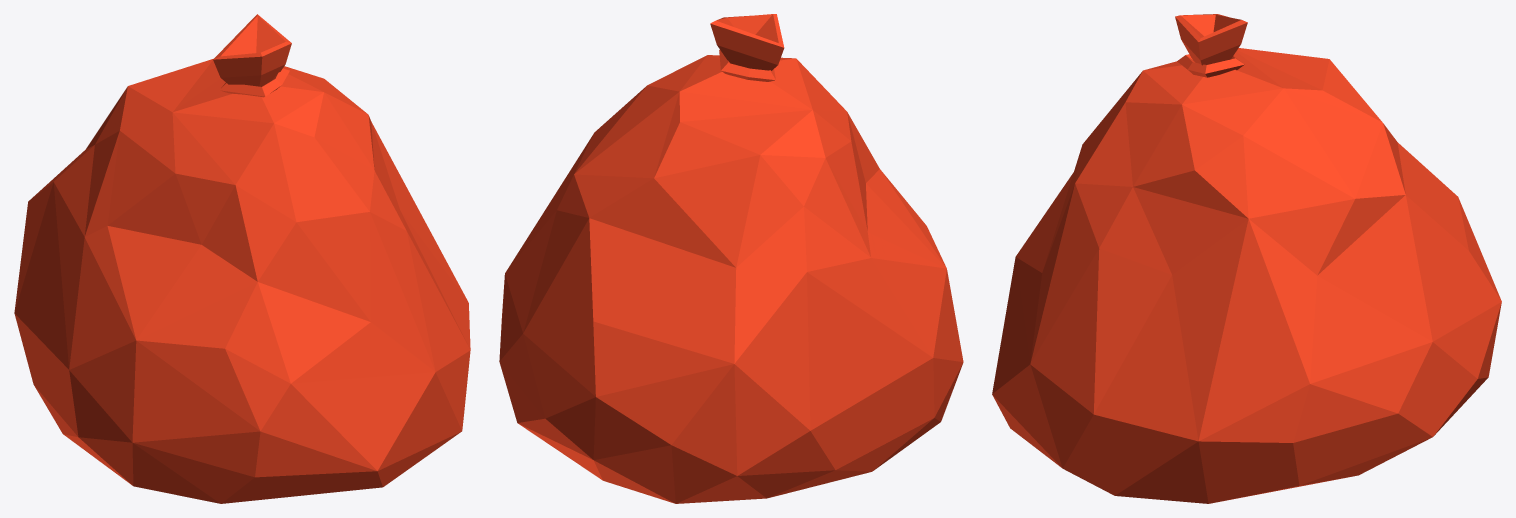
Rendered from SM_Trash_City.fbx.
3 views of the same model, side by side, from view 1: azimuth 30°, elevation 25°; view 2: azimuth 150°, elevation 25°; view 3: azimuth 270°, elevation 25° (orthographic). The views are drawn at different scales.
Parts seen in each view (by area): view 1: SM_Trash_City; view 2: SM_Trash_City; view 3: SM_Trash_City.
Part boxes in pixels (left/top/right/bottom): SM_Trash_City: left=14, top=14, right=470, bottom=503; SM_Trash_City: left=499, top=14, right=963, bottom=503; SM_Trash_City: left=992, top=14, right=1501, bottom=503.
Bounding box in the file's own units: 0.5546 × 0.5324 × 0.6087.
